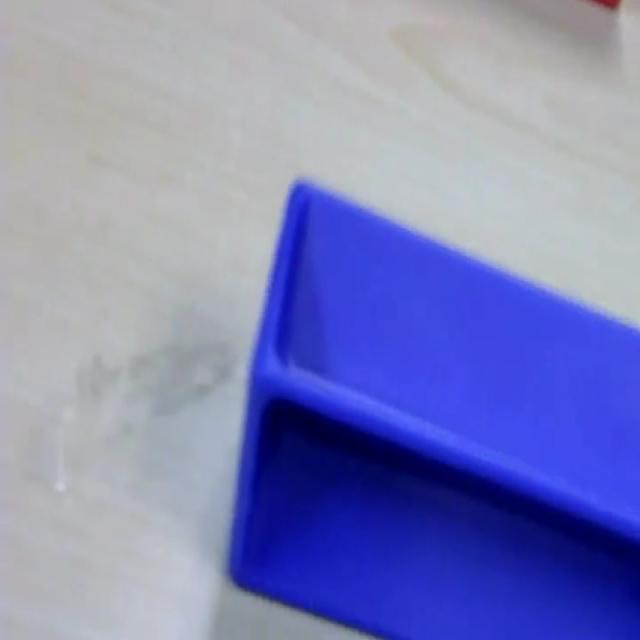blue_block: (226, 173, 638, 636)
